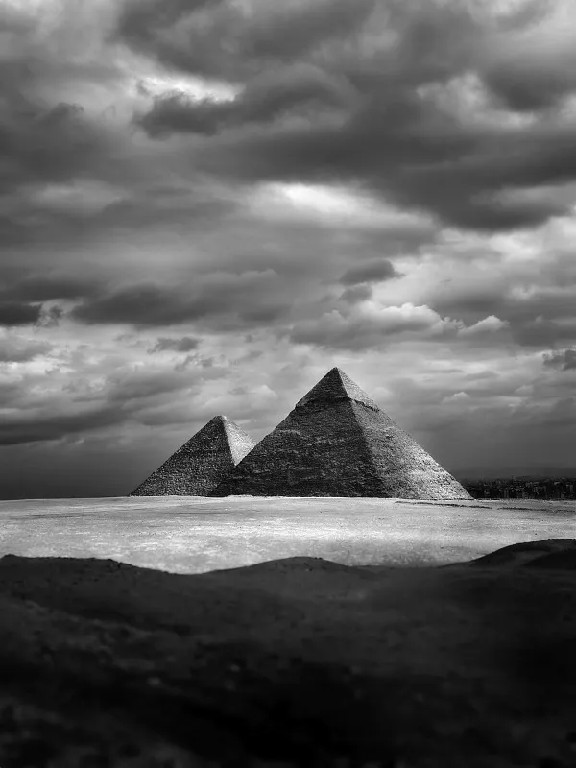Pyramid: (211, 368, 473, 501), (128, 417, 257, 497)
